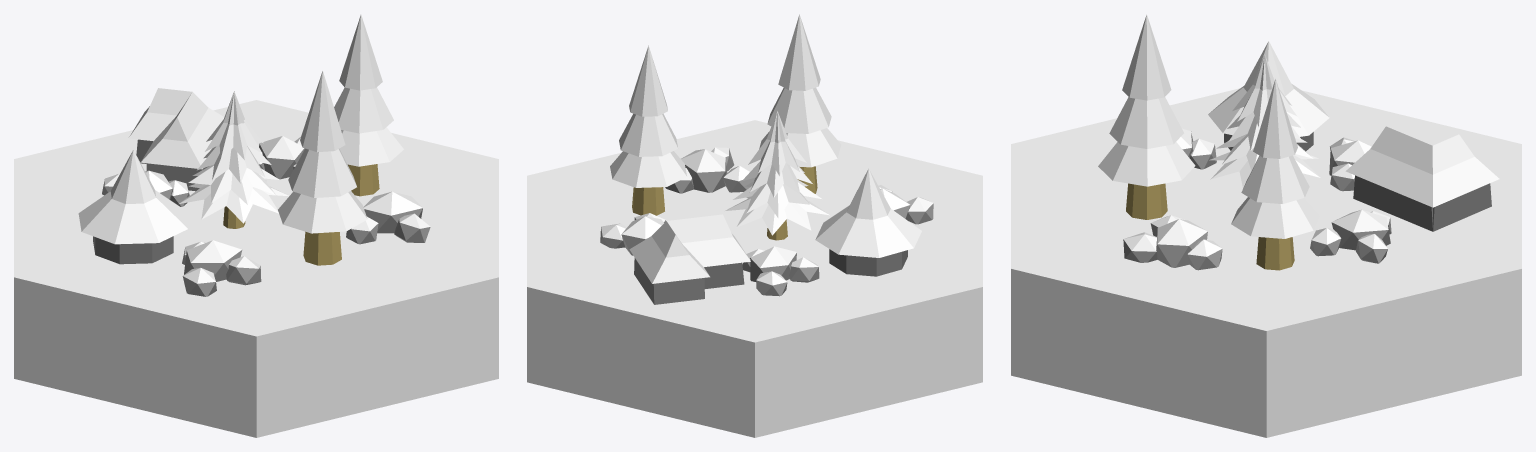
File: Casas_Pinos_Rocas_Nieve_2.fbx
3 renders of one model, left to right at view 1: azimuth 30°, elevation 25°; view 2: azimuth 150°, elevation 25°; view 3: azimuth 270°, elevation 25°, orthographic. The views are drawn at different scales.
Parts seen in each view (by area): view 1: Casas_Pinos_Rocas_Nieve_2; view 2: Casas_Pinos_Rocas_Nieve_2; view 3: Casas_Pinos_Rocas_Nieve_2.
Part boxes in pixels (x1,y1,x2,y2): Casas_Pinos_Rocas_Nieve_2: (14, 14, 498, 437); Casas_Pinos_Rocas_Nieve_2: (527, 14, 982, 437); Casas_Pinos_Rocas_Nieve_2: (1011, 14, 1521, 437).
Size of the model in its own units: 200 by 114 by 173.
